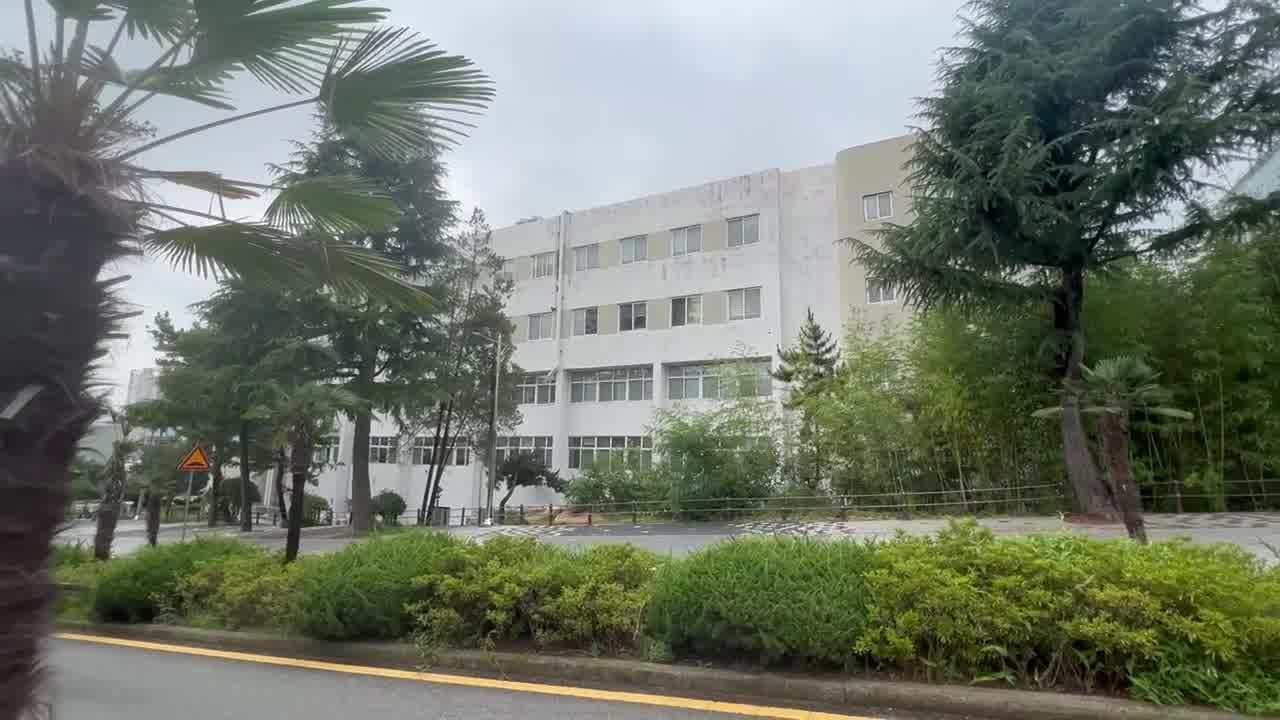building: (519, 174, 854, 374)
